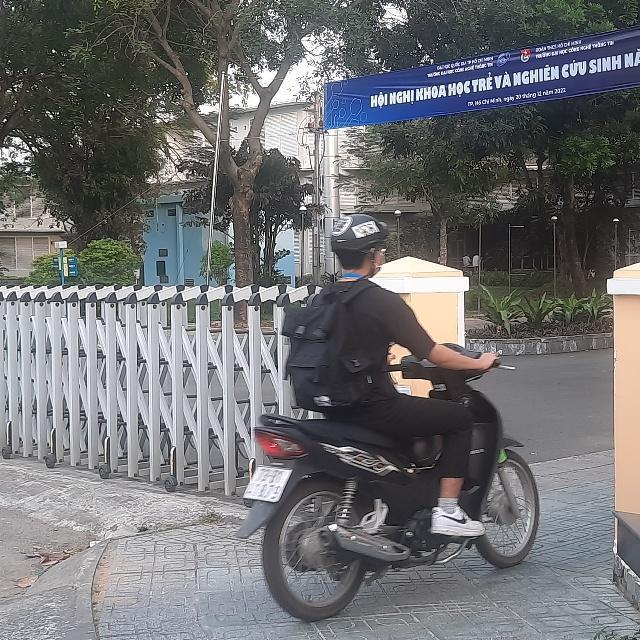Helmet: (332, 214, 388, 278)
